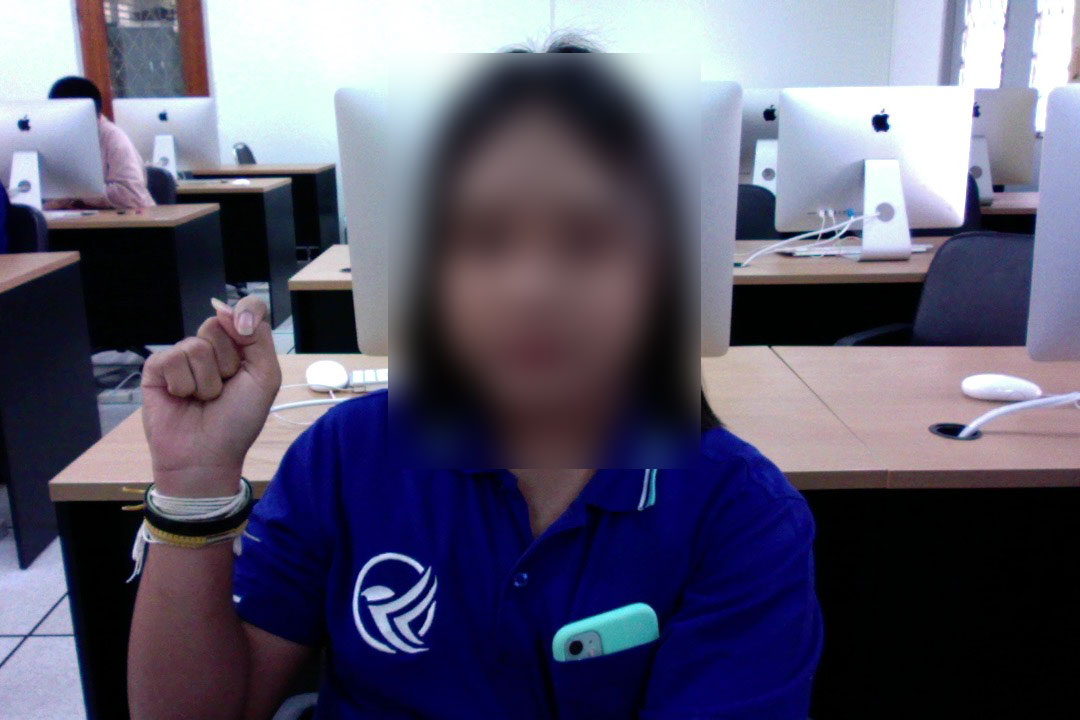tor: (134, 290, 288, 495)
